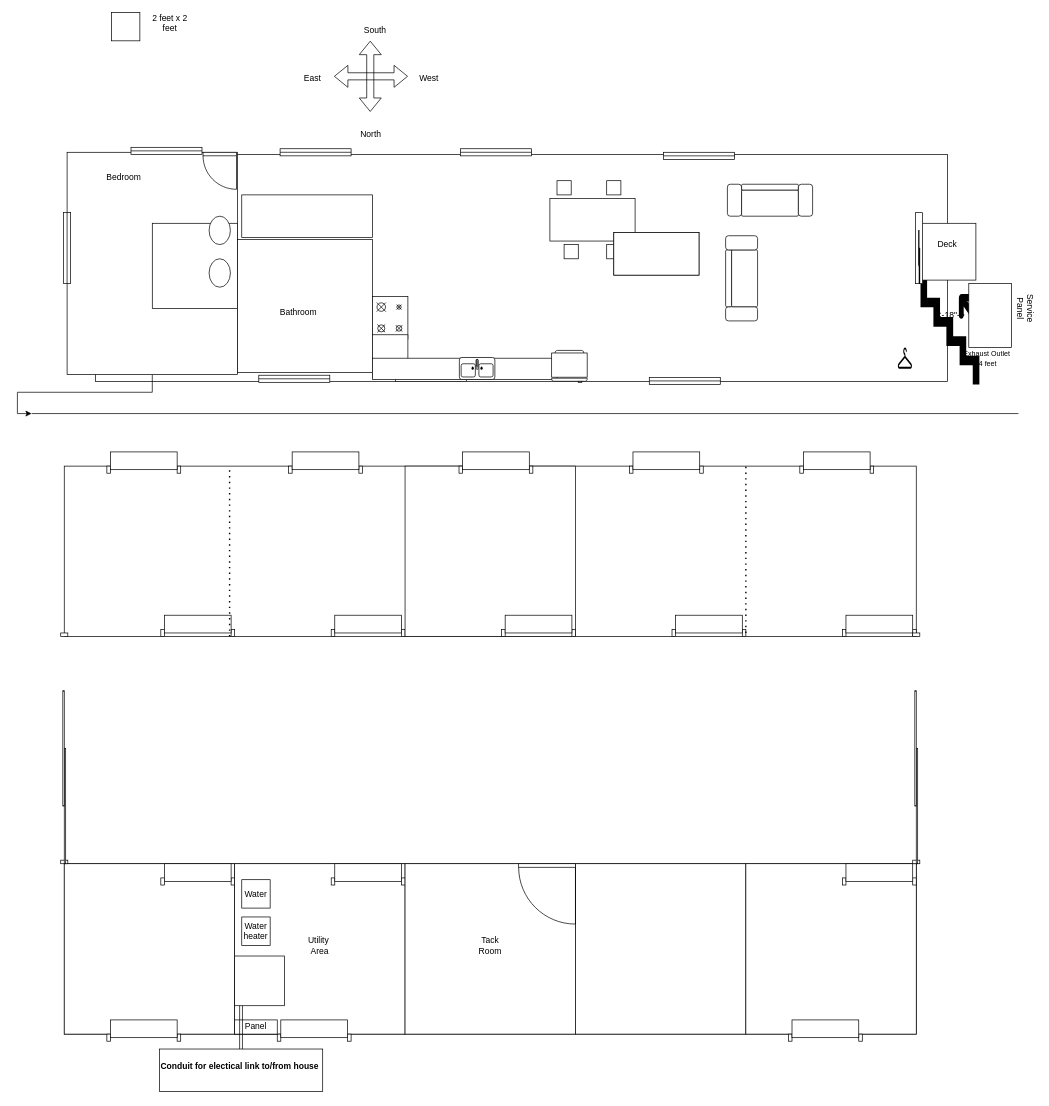
Image size: 1049x1106. Some labels were removed from this diagram. Here are the shapes that lost their labels. From the top down, the centre of each, then its label:
At (989,315): "Generator + Pad".
At (660,948): "Wash Stall".
At (259,980): "Solar".
